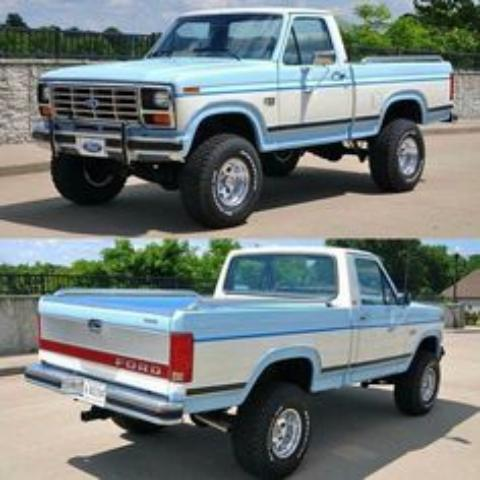pickup-truck: (23, 247, 446, 479)
